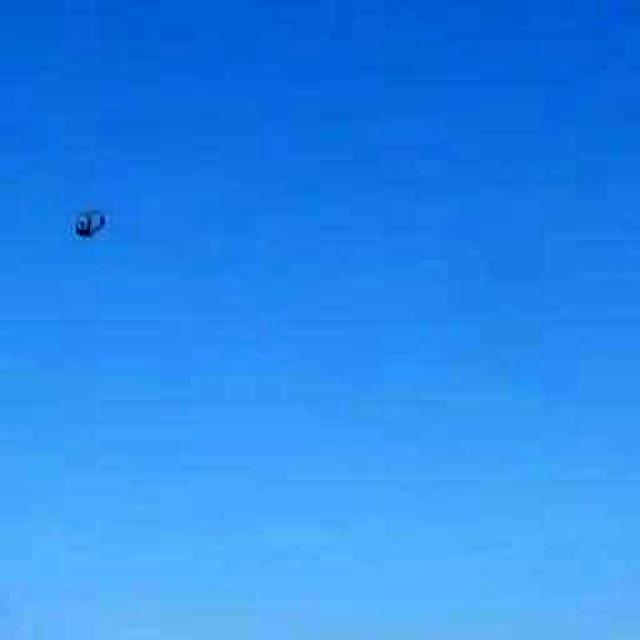drone: (45, 181, 125, 259)
